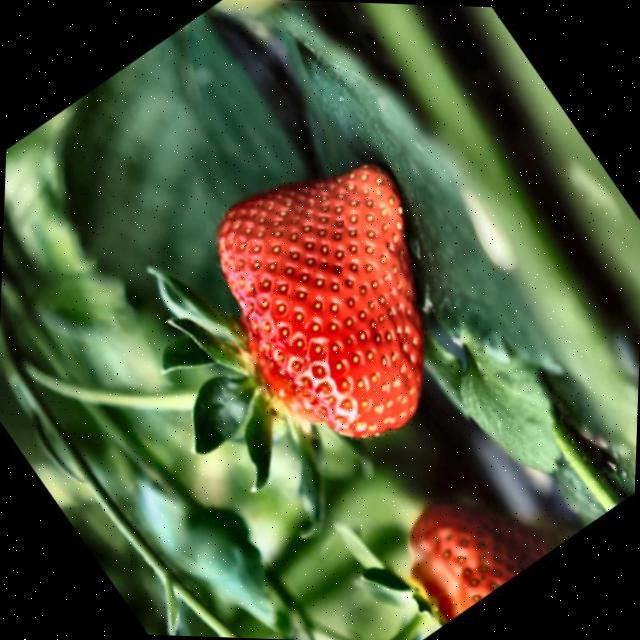strawberry: (218, 164, 423, 436), (409, 504, 547, 620)
